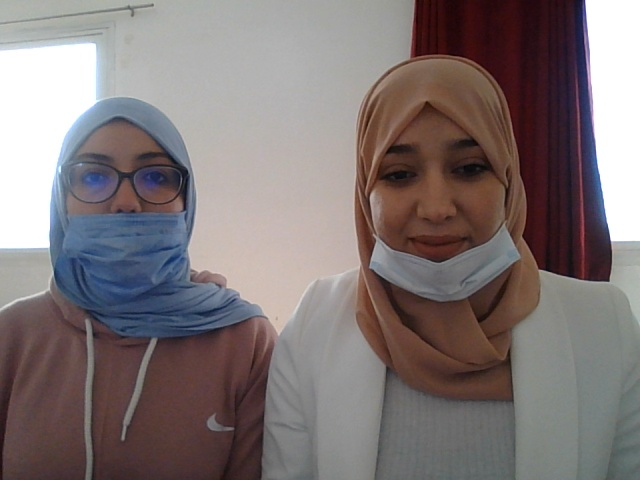mask_weared_incorrect: (319, 67, 543, 296), (48, 128, 184, 307)
